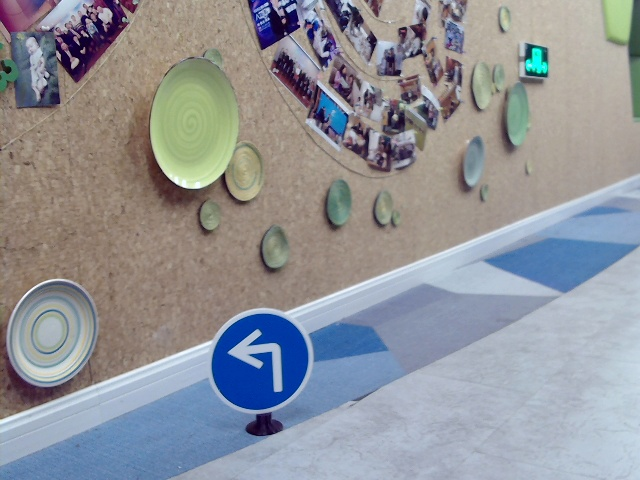turn_left: (228, 326, 288, 392)
